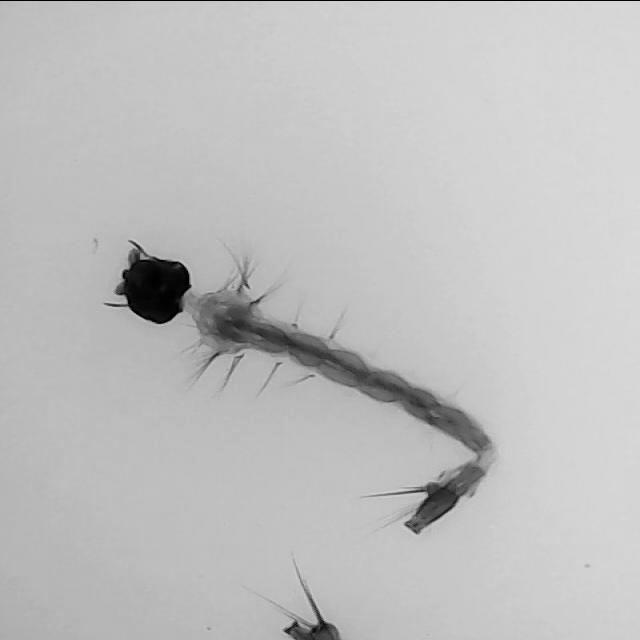larvas: (122, 245, 493, 527)
